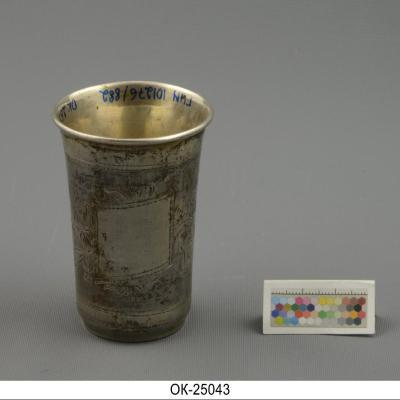dpi: (52, 81, 213, 345)
